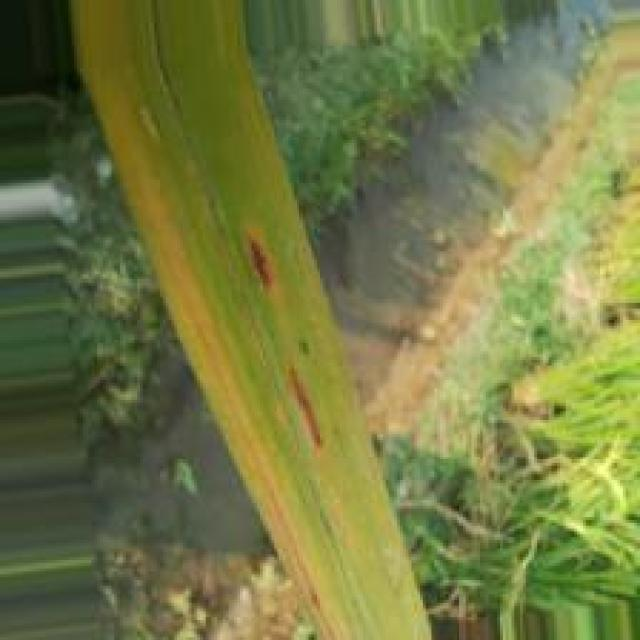Leaf_Blast: (281, 362, 326, 457), (241, 223, 280, 304)
